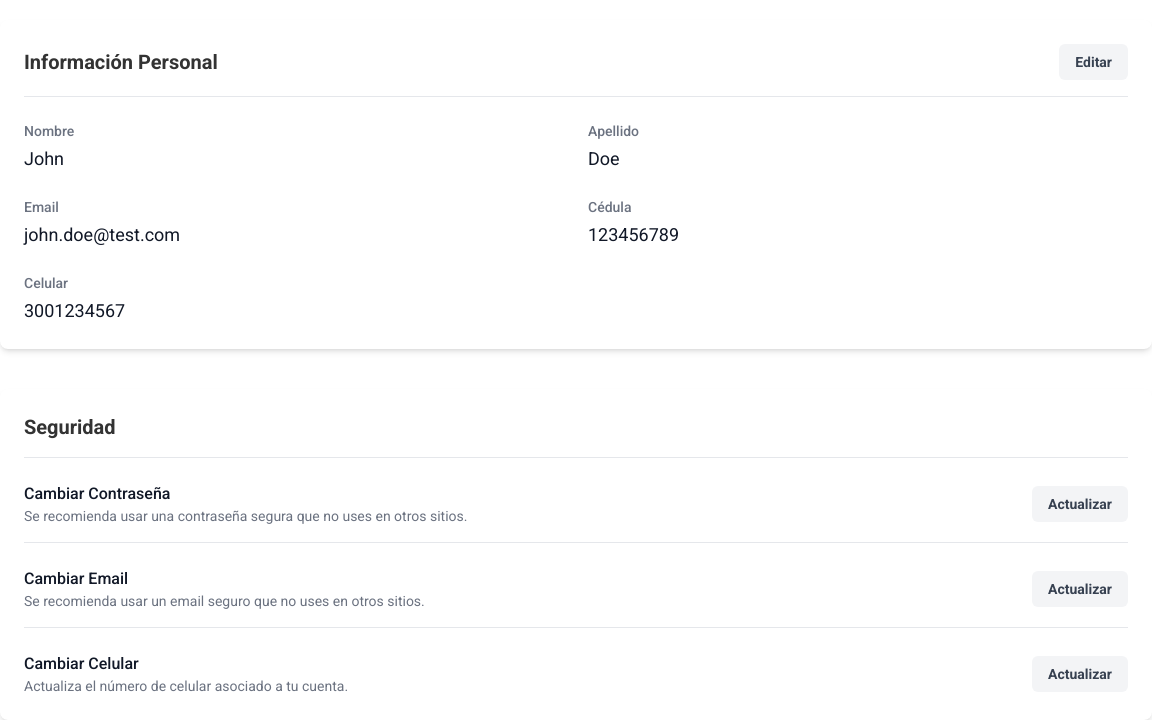
Test: ProfilePage › Modales de Seguridad › debería abrir el modal de cambio de celular
This screenshot has width=1152, height=720.
(page scrolled)
Click the button "Actualizar" in the row of "Cambiar Celular": (1080, 674) x1=1032 y1=656 x2=1128 y2=692
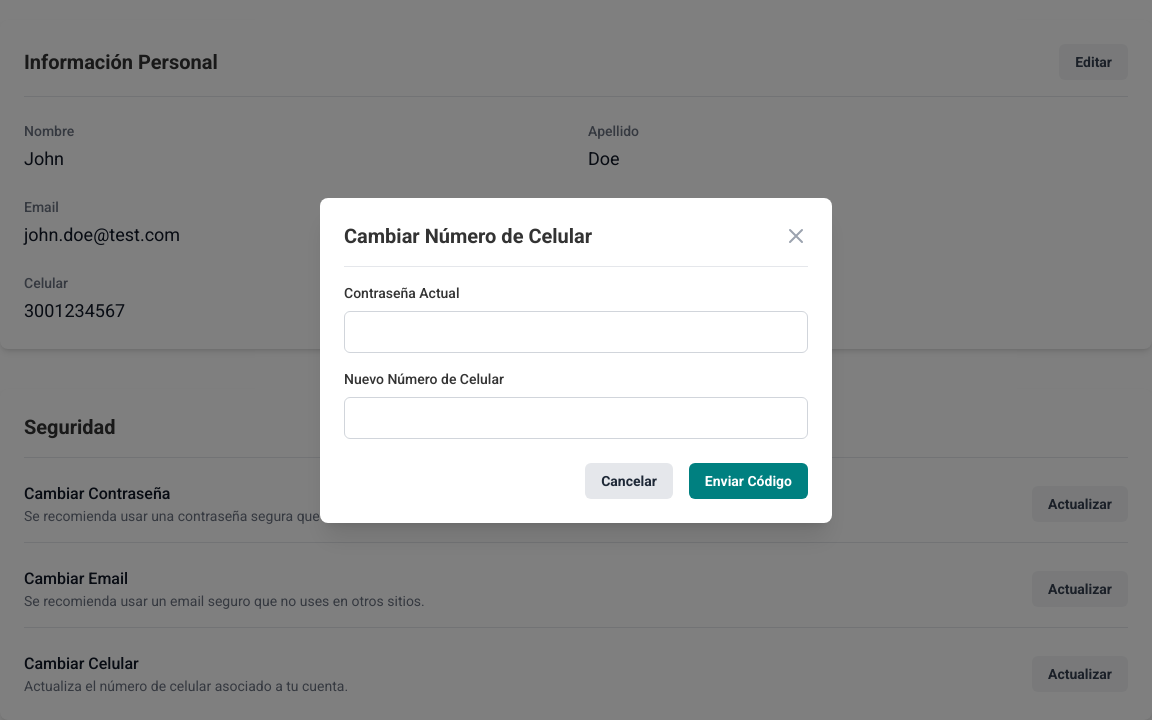
expect the heading "Cambiar Número de Celular" is shown: met, box x1=344 y1=222 x2=592 y2=250
